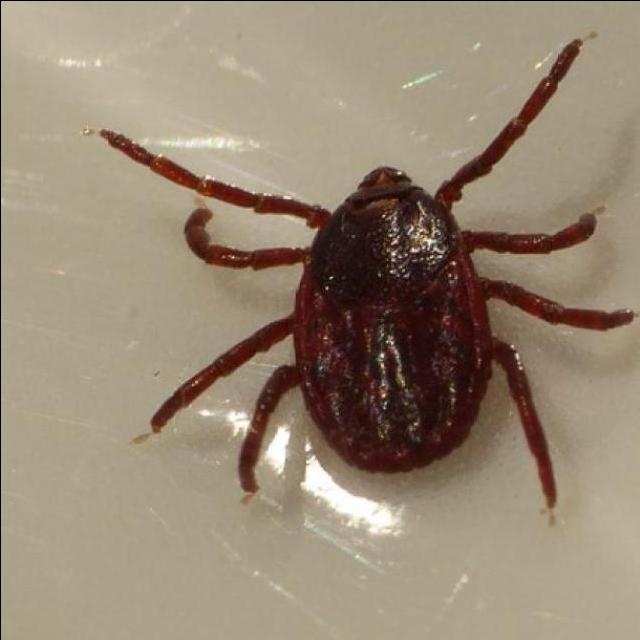Rhipicephalus Sanguineus-F: (82, 38, 635, 511)
